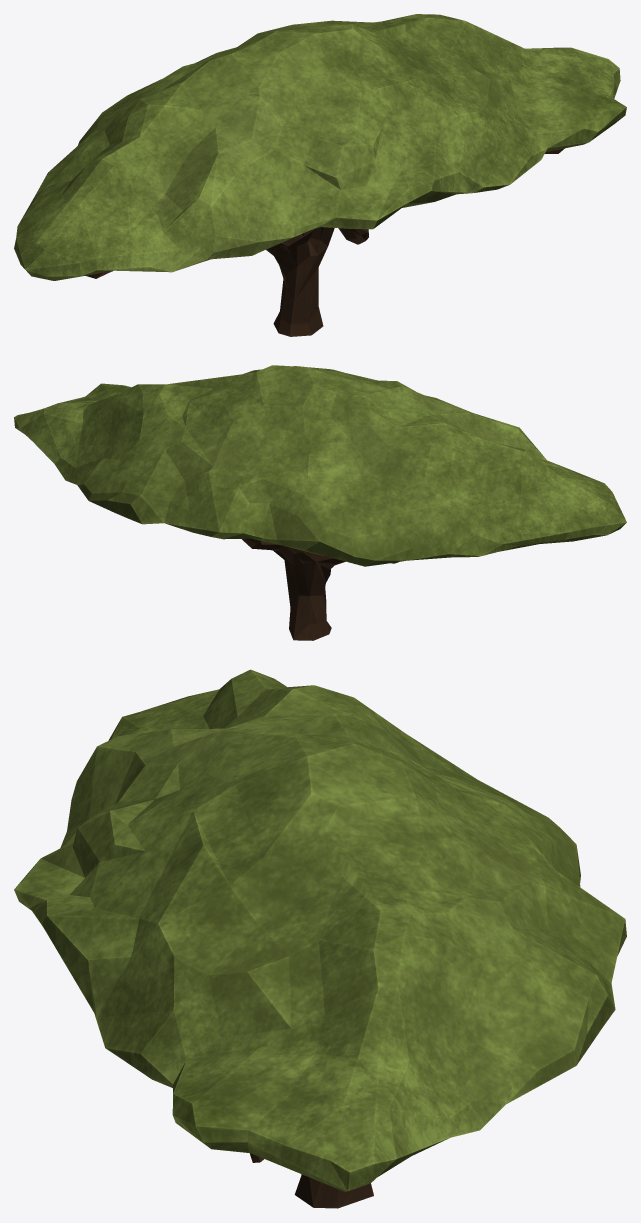
Rendered from distant_tree_4.glb.
3 renders of one model, top to bottom at view 1: azimuth 30°, elevation 25°; view 2: azimuth 150°, elevation 25°; view 3: azimuth 270°, elevation 25°, orthographic. The views are drawn at different scales.
Parts seen in each view (by area): view 1: Acacia_Mesh; view 2: Acacia_Mesh; view 3: Acacia_Mesh.
Boxes of the visible parts, bbox=[...] form: Acacia_Mesh: bbox=[14, 14, 626, 336]; Acacia_Mesh: bbox=[14, 365, 626, 640]; Acacia_Mesh: bbox=[14, 669, 626, 1208].
Size of the model in its own units: 23.32 by 10.2 by 12.76.
Materials: 1 (1 with a texture image).
